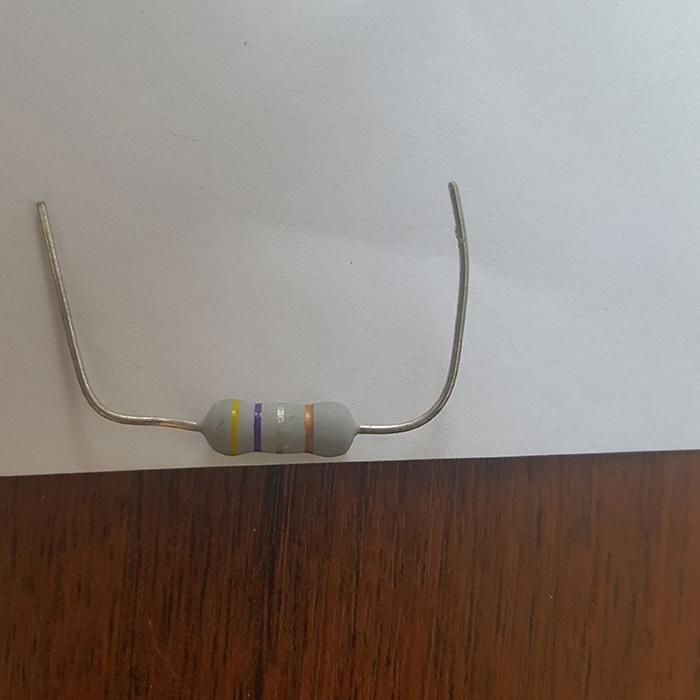resistor: (199, 398, 356, 459)
